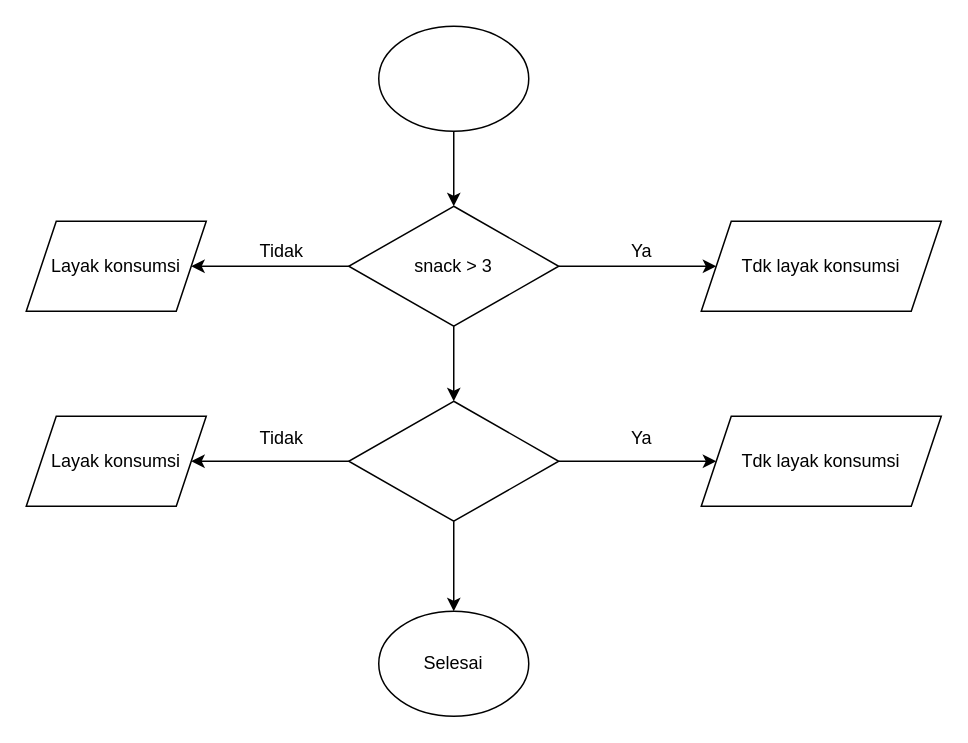
The diagram is 968 pixels wide and 743 high, and some of its shapes have lost their labels. Each missing label, with the centre of its shape:
mnmKaleng > 3: pixel 453 460
Mulai: pixel 453 78
